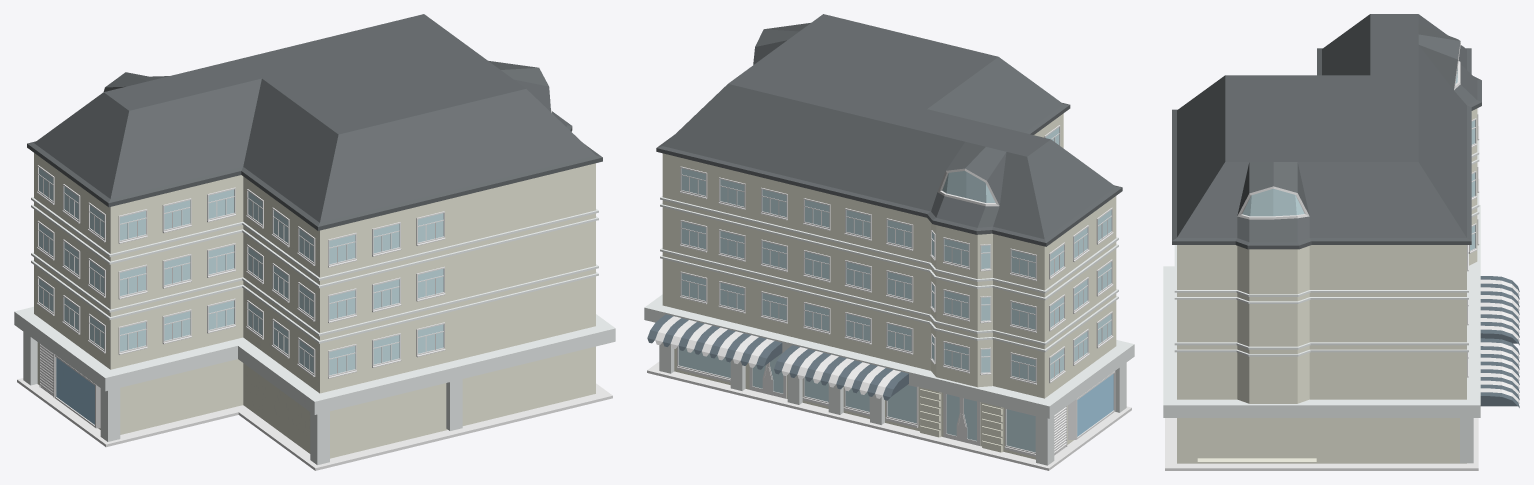
Rendered from office_with_coffeeshop.fbx.
3 views of the same model, side by side, from view 1: azimuth 30°, elevation 25°; view 2: azimuth 150°, elevation 25°; view 3: azimuth 270°, elevation 25° (orthographic). The views are drawn at different scales.
Visible parts, largest first — view 1: Building_facad, showcase, Cube.13, Cube.15, Cube.14, Cube.12, blinds, glass.074, glass.024, glass.073, glass.019, glass.030 (+7 smaller); view 2: Building_facad, shed1.002, shed1.001, showcase, shed.001, shed.002, Cube.029, Cube.030, Cube.055, Cube.034, Cube.12, Cube.11 (+28 smaller); view 3: Building_facad, shed1.001, shed1.002, shed.001, shed.002, Cube.053.
Part boxes in pixels (<box>): Building_facad: <box>14,14,615,470</box>; showcase: <box>54,355,100,428</box>; Cube.13: <box>100,388,120,441</box>; Cube.15: <box>310,411,329,465</box>; Cube.14: <box>446,379,462,430</box>; Cube.12: <box>23,332,37,385</box>; blinds: <box>39,344,54,397</box>; glass.074: <box>208,189,234,218</box>; glass.024: <box>373,224,399,253</box>; glass.073: <box>208,245,234,274</box>; glass.019: <box>373,335,399,364</box>; glass.030: <box>373,279,399,308</box>; Building_facad: <box>644,14,1134,470</box>; shed1.002: <box>774,345,908,400</box>; shed1.001: <box>647,314,782,369</box>; showcase: <box>1068,371,1115,439</box>; shed.001: <box>655,316,774,367</box>; shed.002: <box>782,347,900,398</box>; Cube.029: <box>1006,409,1035,452</box>; Cube.030: <box>946,394,976,440</box>; Cube.055: <box>678,347,730,377</box>; Cube.034: <box>887,385,916,423</box>; Cube.12: <box>1036,415,1054,465</box>; Cube.11: <box>943,393,980,445</box>; Building_facad: <box>1163,14,1481,470</box>; shed1.001: <box>1480,338,1519,407</box>; shed1.002: <box>1480,276,1519,345</box>; shed.001: <box>1480,342,1519,403</box>; shed.002: <box>1480,279,1519,341</box>; Cube.053: <box>1460,418,1473,463</box>.
Size of the model in its own units: 4403 by 2898 by 3302.
